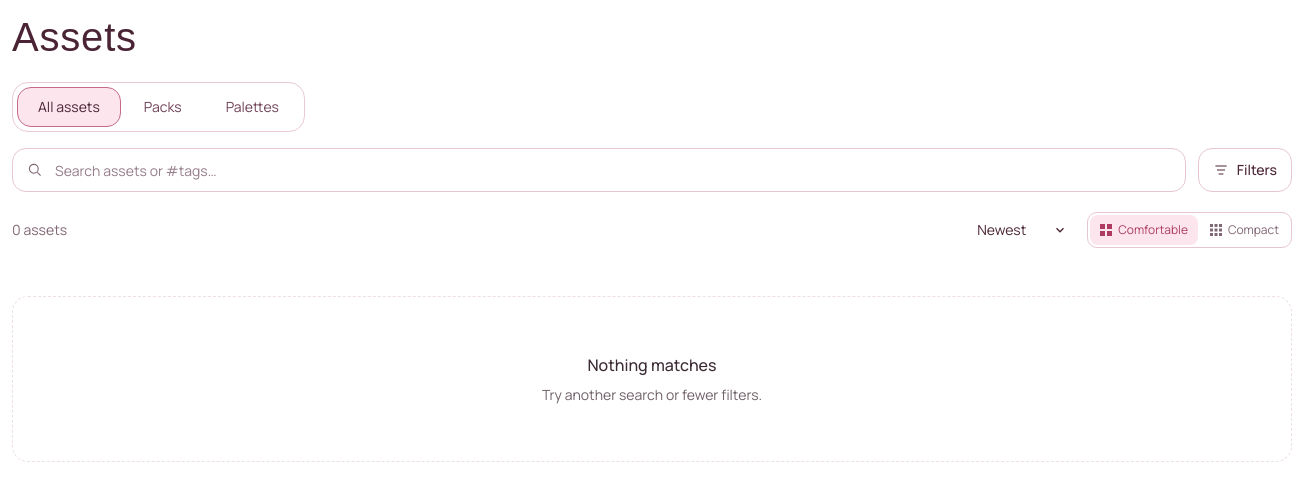
Test: lets people retry an asset query without reloading the page
The width and height of the screenshot is (1304, 479).
Type "crystal" into the dropdown labelled "Search assets".
click(613, 170); type("crystal")  # box [55,149,1171,191]
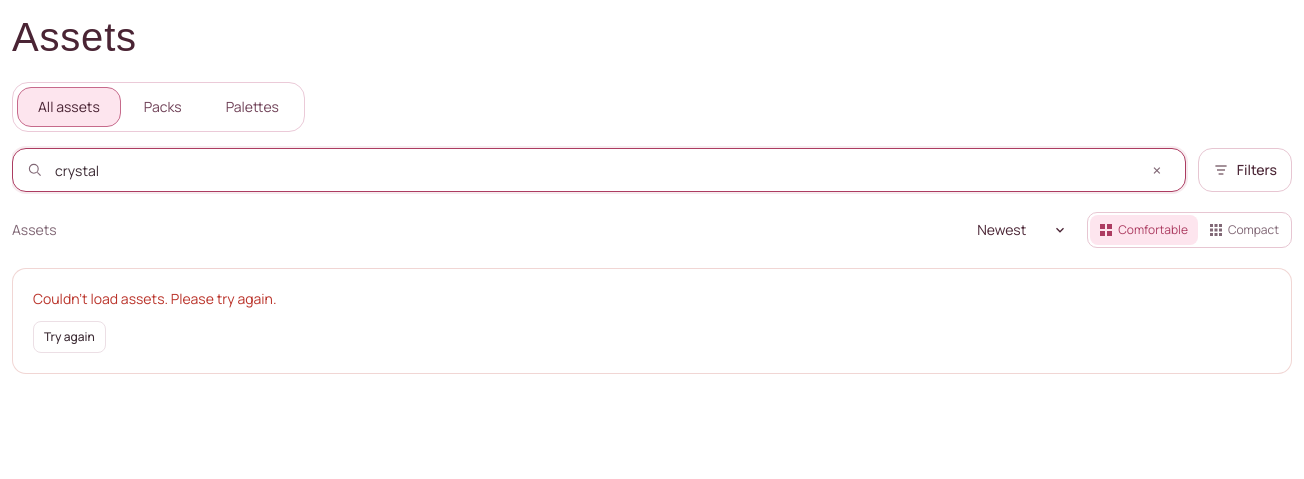
Click the button "Try again".
click(69, 337)  # box [33,321,106,353]
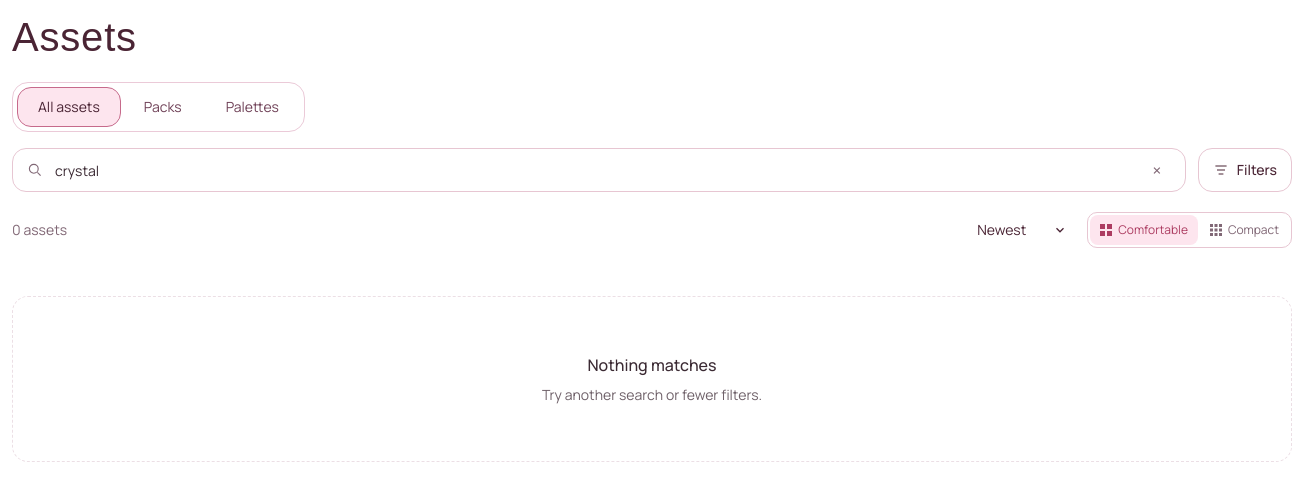
Check: the text "Nothing matches" is shown, box [587,354,716,376]
Check: the message "try again" is gone
